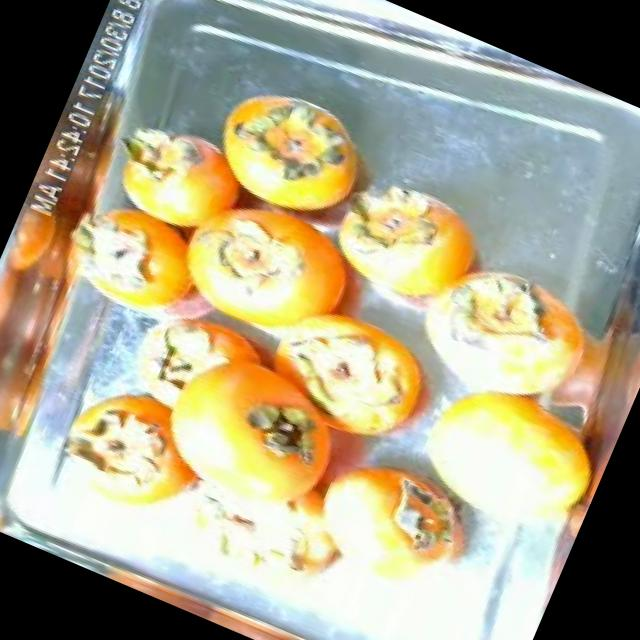Fruit: (28, 352, 240, 538), (187, 62, 393, 244), (88, 95, 274, 260)
